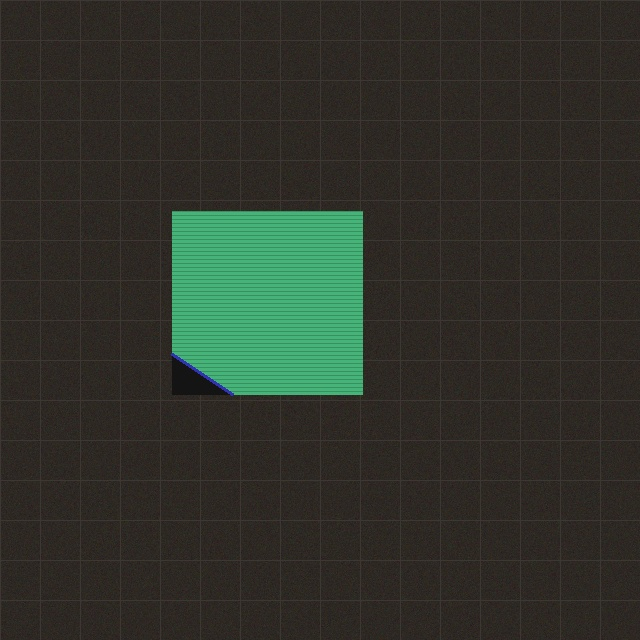warping: (162, 334, 252, 404)
